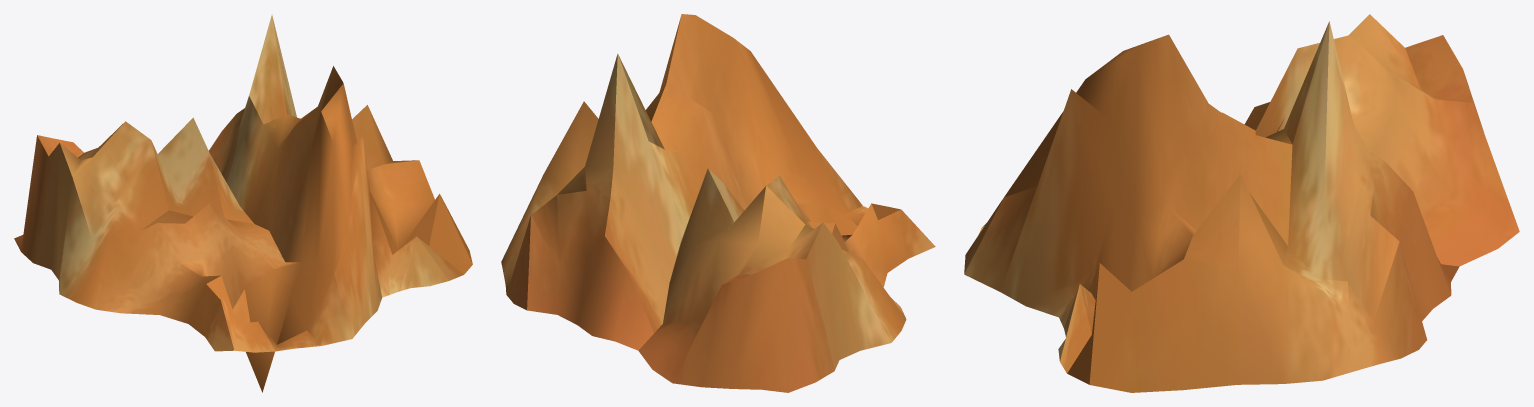
File: stalagmite_004.fbx
3 views of the same model, side by side, from view 1: azimuth 30°, elevation 25°; view 2: azimuth 150°, elevation 25°; view 3: azimuth 270°, elevation 25° (orthographic). The views are drawn at different scales.
Parts seen in each view (by area): view 1: stalagmite.004; view 2: stalagmite.004; view 3: stalagmite.004.
Boxes of the visible parts, x1,y1,x2,y2 form: stalagmite.004: (14, 14, 472, 392); stalagmite.004: (501, 14, 935, 392); stalagmite.004: (964, 14, 1519, 392).
Bounding box in the file's own units: 208 × 160 × 209.
